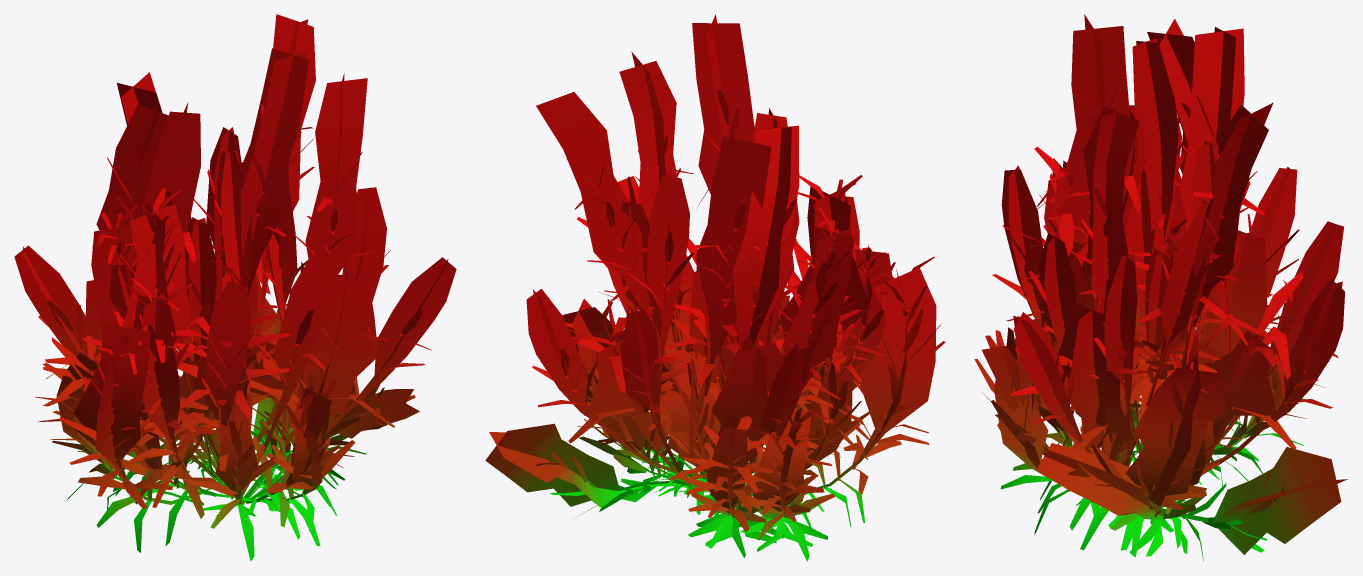
File: Var1_LOD4.fbx
3 renders of one model, left to right at view 1: azimuth 30°, elevation 25°; view 2: azimuth 150°, elevation 25°; view 3: azimuth 270°, elevation 25°, orthographic. The views are drawn at different scales.
Parts seen in each view (by area): view 1: _53k4_Var1_LOD4; view 2: _53k4_Var1_LOD4; view 3: _53k4_Var1_LOD4.
Boxes of the visible parts, x1,y1,x2,y2 form: _53k4_Var1_LOD4: [14, 14, 456, 561]; _53k4_Var1_LOD4: [485, 14, 945, 561]; _53k4_Var1_LOD4: [974, 14, 1347, 561].
Size of the model in its own units: 31.62 by 41.49 by 27.45.
